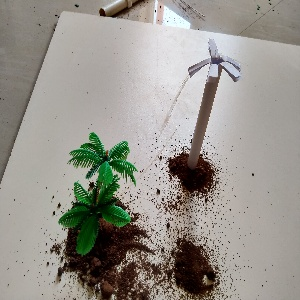plant: (61, 133, 133, 255)
weed: (181, 39, 237, 167)
